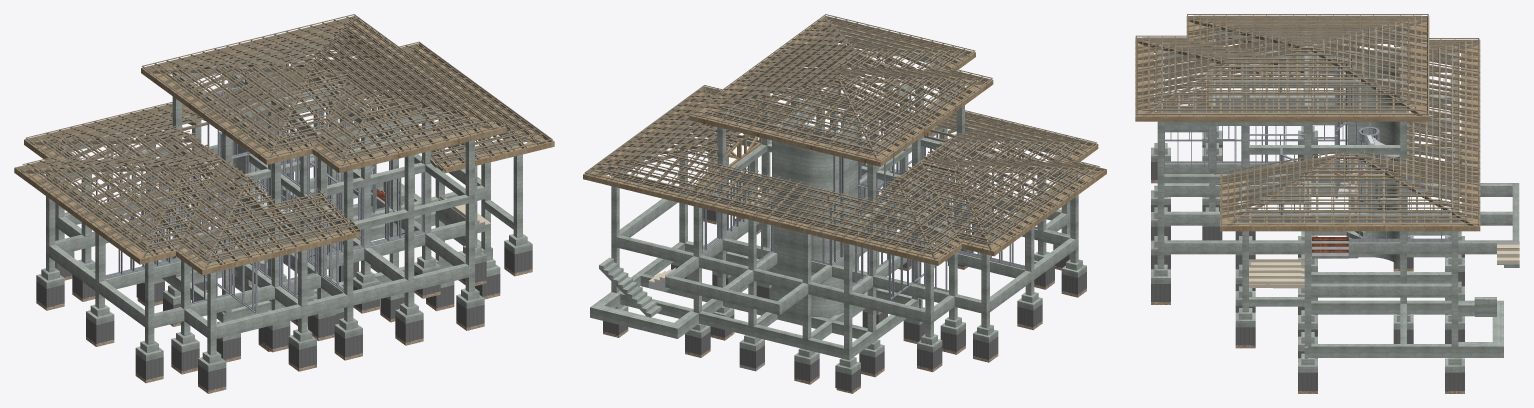
The model's file is Definitory STRUCTURE.fbx.
3 renders of one model, left to right at view 1: azimuth 30°, elevation 25°; view 2: azimuth 150°, elevation 25°; view 3: azimuth 270°, elevation 25°, orthographic. The views are drawn at different scales.
Visible parts, largest first — view 1: Model; view 2: Model; view 3: Model.
Boxes of the visible parts, box(x1,y1,x2,y2) form: Model: box(14, 14, 554, 393); Model: box(583, 14, 1106, 393); Model: box(1135, 14, 1519, 393).
Size of the model in its own units: 21.65 by 13.07 by 17.26.
Materials: 15 (12 with a texture image).
